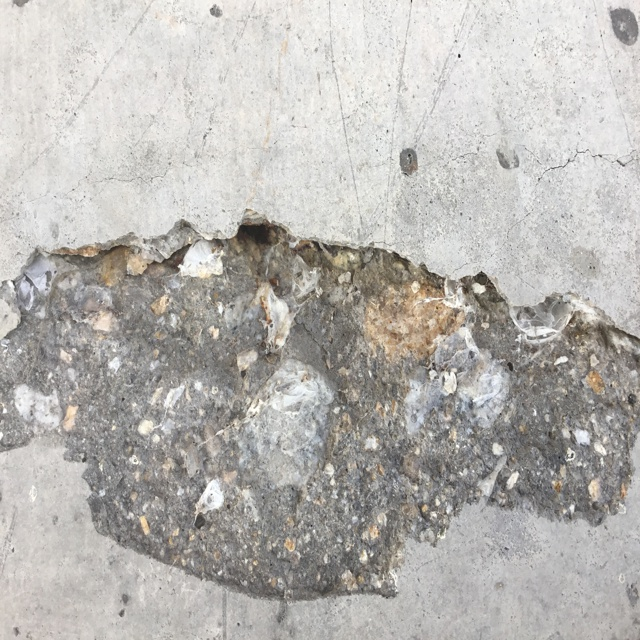spall: (0, 229, 636, 562)
